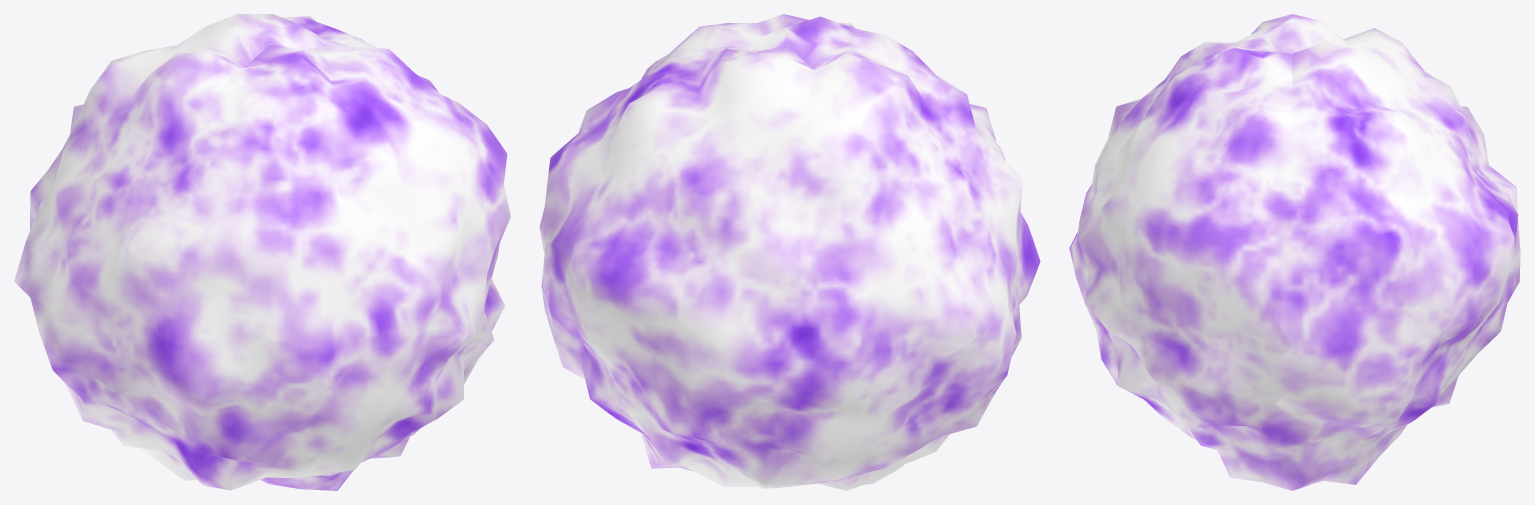
File: fireball_arcane.glb
3 renders of one model, left to right at view 1: azimuth 30°, elevation 25°; view 2: azimuth 150°, elevation 25°; view 3: azimuth 270°, elevation 25°, orthographic. The views are drawn at different scales.
Parts seen in each view (by area): view 1: fireball; view 2: fireball; view 3: fireball.
Boxes of the visible parts, x1,y1,x2,y2 form: fireball: [14, 14, 510, 490]; fireball: [539, 14, 1040, 490]; fireball: [1069, 14, 1520, 490].
Size of the model in its own units: 2.29 by 2.14 by 2.2.
Materials: 1 (1 with a texture image).
